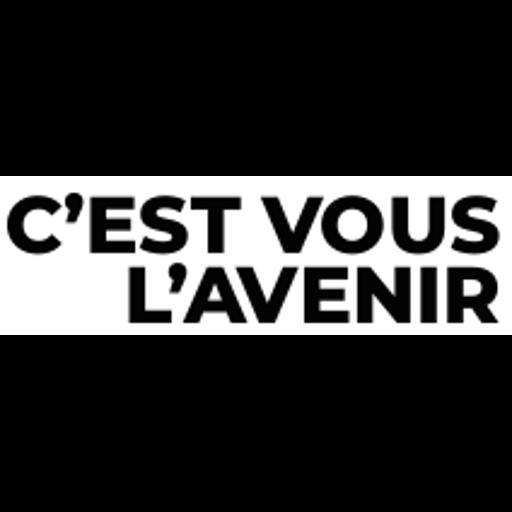Societe Generale: (0, 176, 512, 335)
